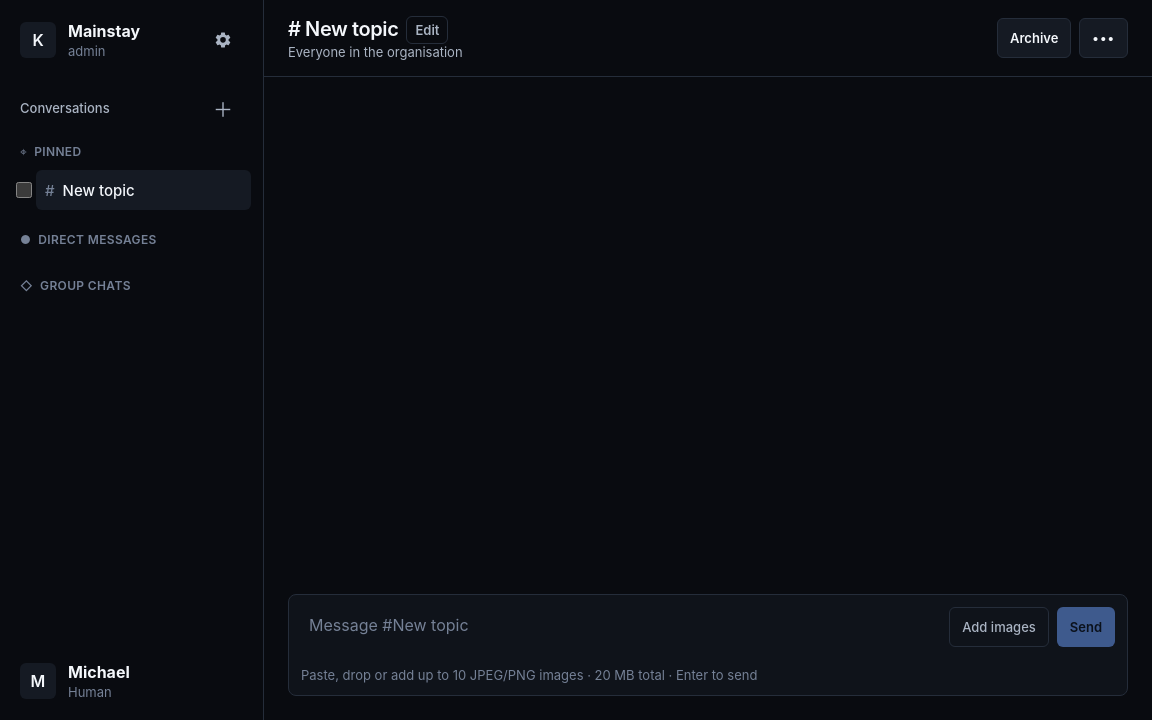
Test case: K-Mainstay UI › reconciles a suffixed automatic title once when send and realtime deliver the first message
Type "Straße" into the dropdown with placeholder "Message #New topic" at [621, 631], box [301,607,941,655]
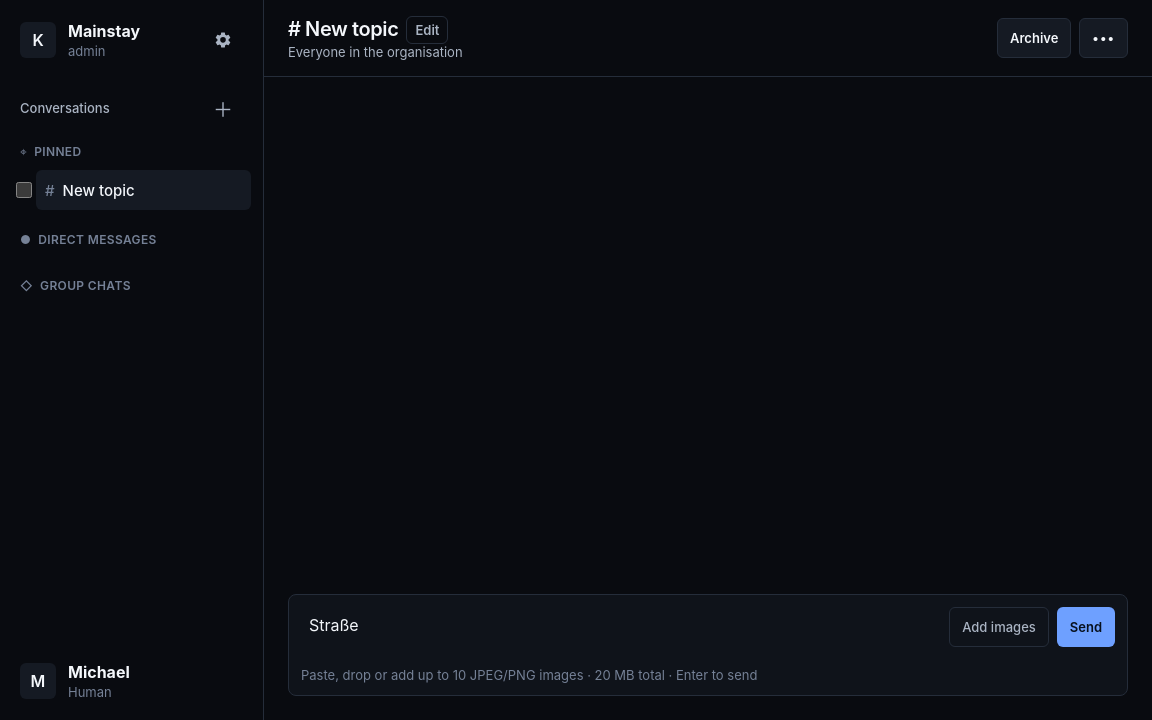
Submit the form with test id "composer", box [288,594,1128,696]
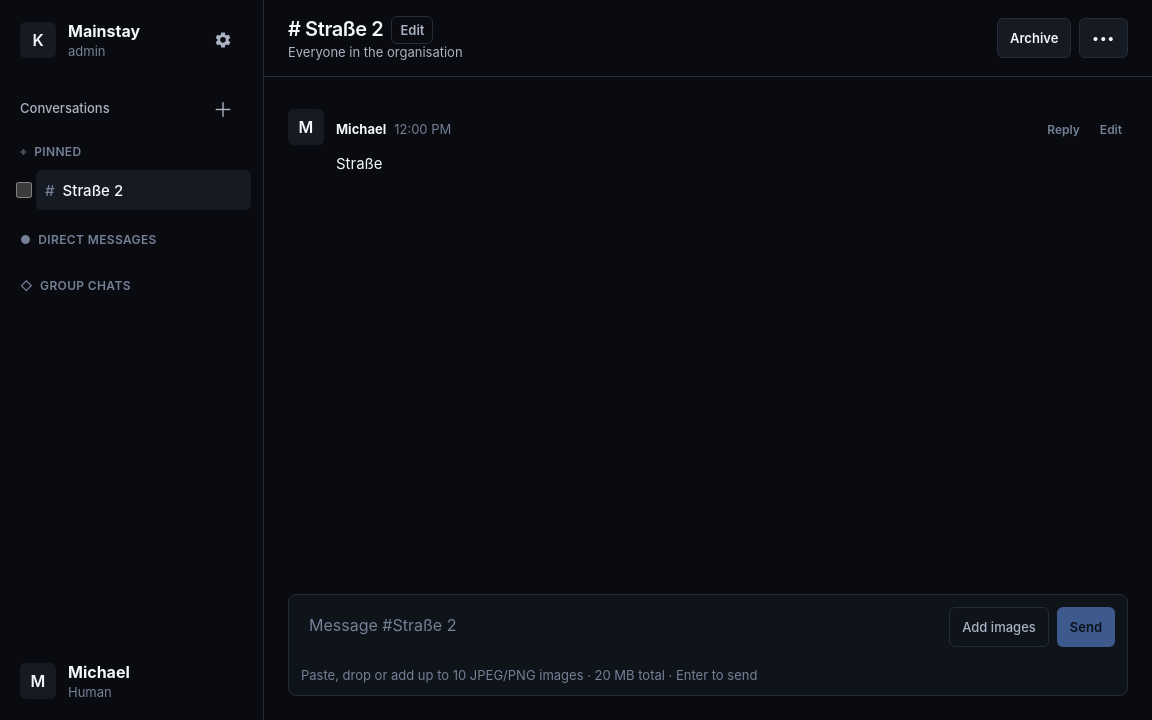
Expected: the heading "# Straße 2" is shown, [288,16,383,42]
